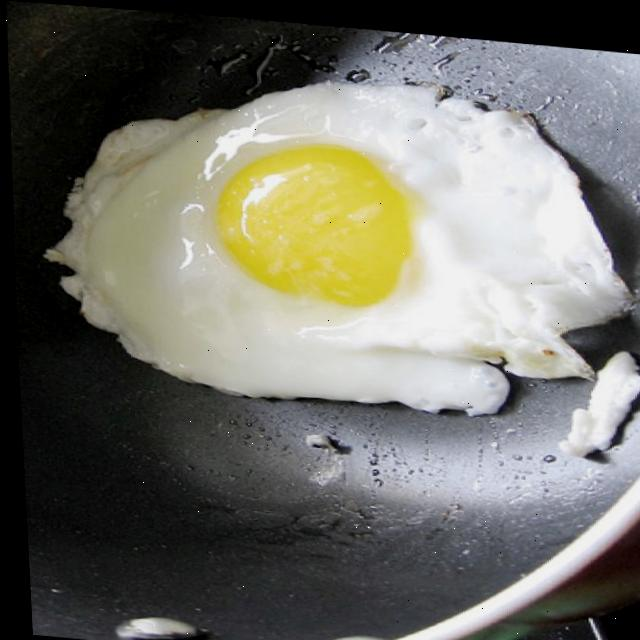鸡蛋料理: (47, 55, 629, 432)
